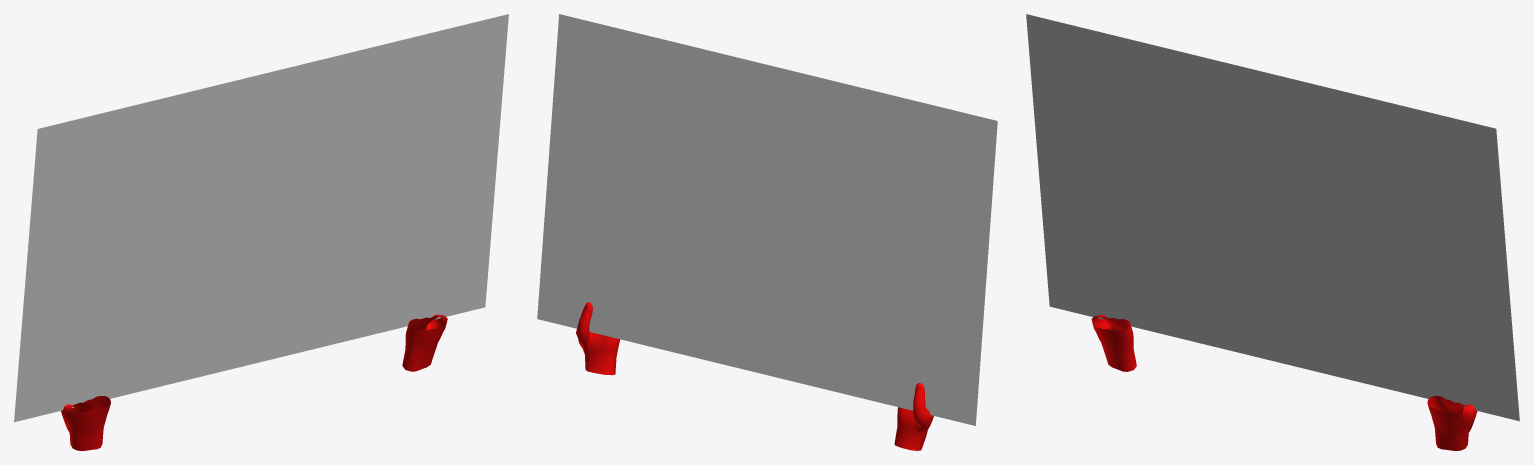
The model's file is Mappa.fbx.
3 views of the same model, side by side, from view 1: azimuth 30°, elevation 25°; view 2: azimuth 150°, elevation 25°; view 3: azimuth 330°, elevation 25° (orthographic). The views are drawn at different scales.
Visible parts, largest first — view 1: Plane; view 2: Plane; view 3: Plane.
Boxes of the visible parts, left/top/right/bottom form: Plane: left=14, top=14, right=508, bottom=450; Plane: left=537, top=14, right=997, bottom=450; Plane: left=1026, top=14, right=1519, bottom=450.
Size of the model in its own units: 200 by 143 by 22.15.
